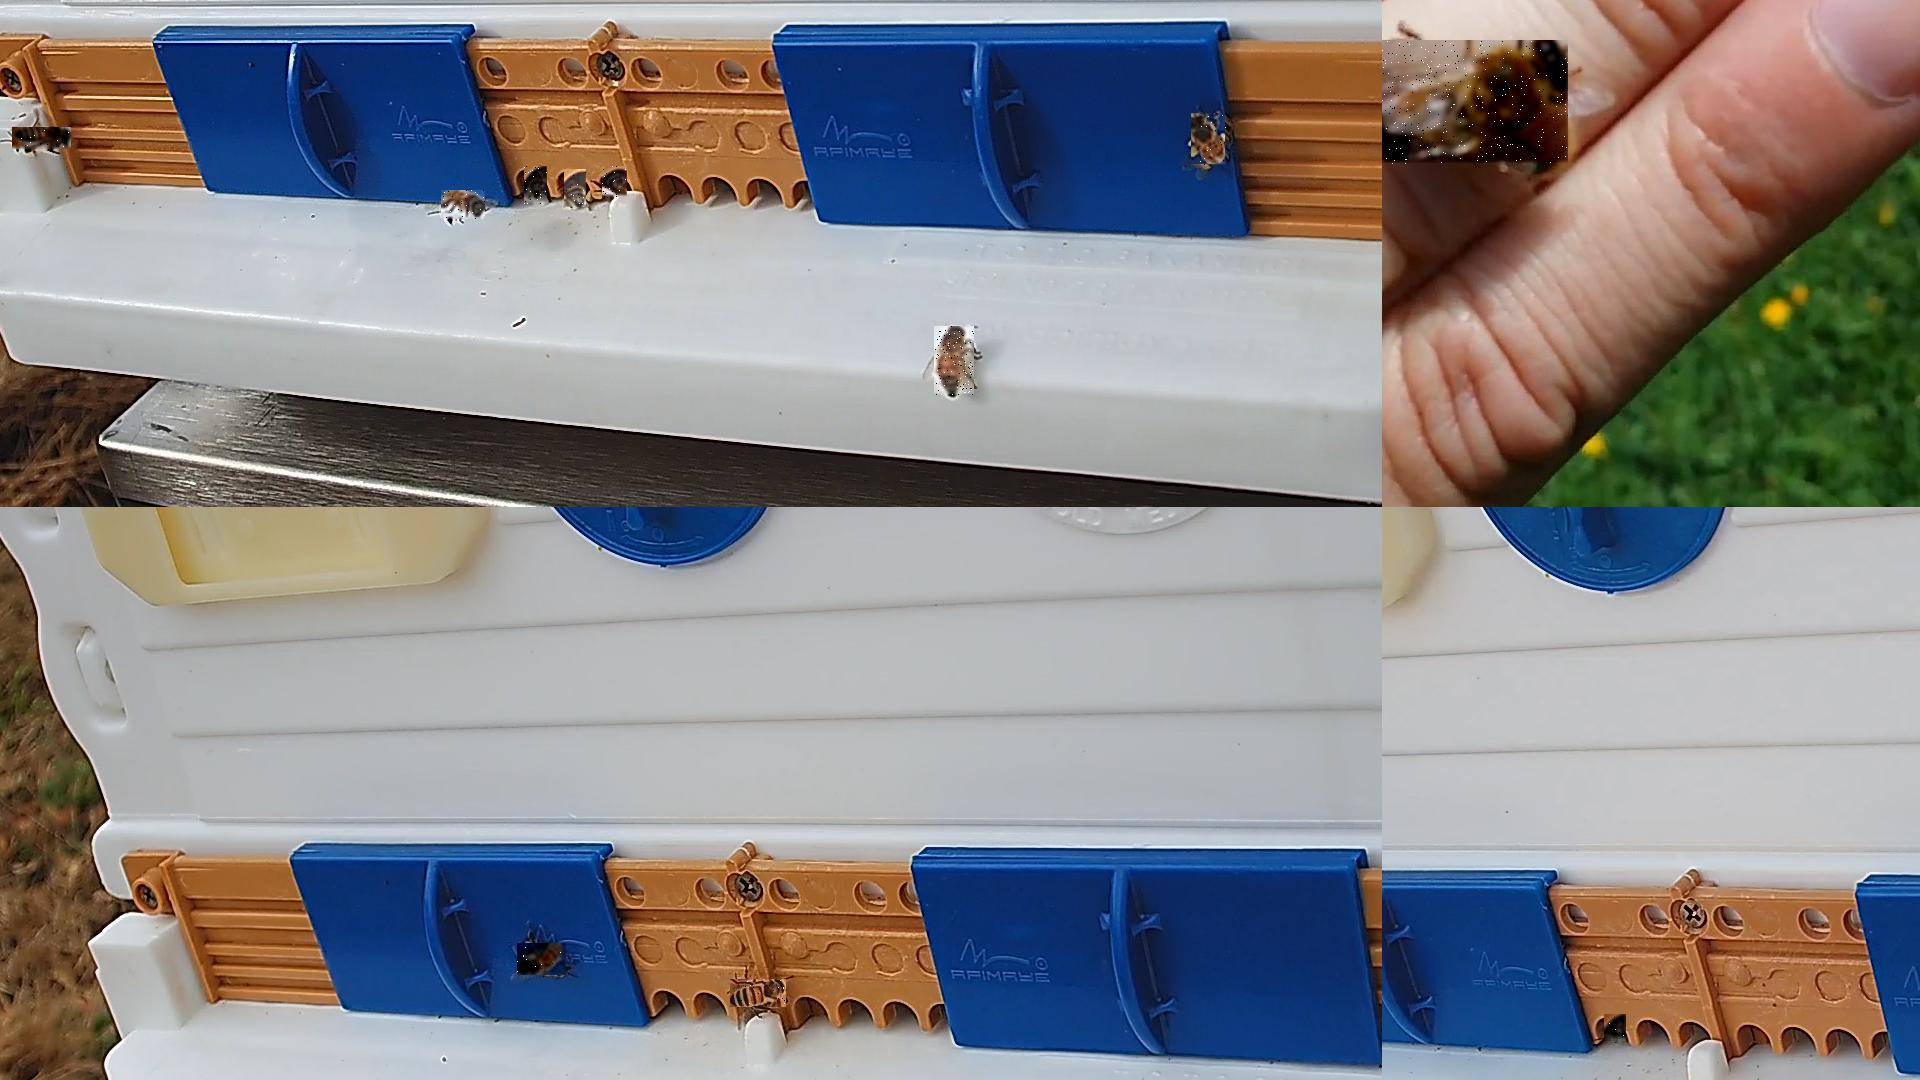bee: (934, 327, 975, 397), (731, 978, 787, 1007), (12, 128, 73, 152), (442, 191, 487, 222), (525, 166, 549, 206), (564, 169, 587, 208), (603, 166, 628, 199), (1604, 1015, 1627, 1042)
drone: (1382, 40, 1571, 166)
pollenbee: (1192, 113, 1230, 169), (518, 943, 568, 976)
